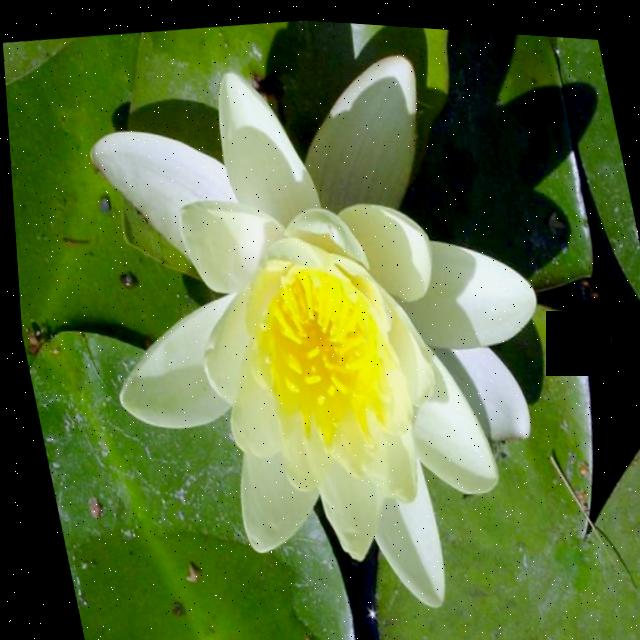rose: (27, 1, 640, 640)
